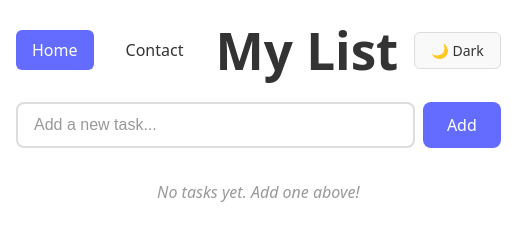
Test: App › adds a new todo
The image size is (519, 227).
Step 1. Type "Buy groceries" into the field with placeholder "Add a new task..." → (215, 125), box [16, 102, 415, 148]
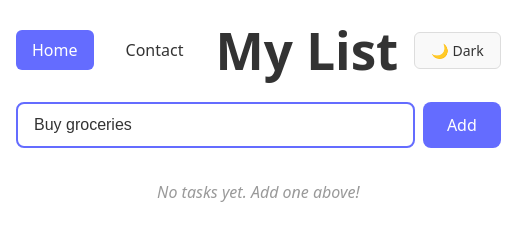
Step 2. Click the button "Add" → (462, 125), box [423, 102, 501, 148]
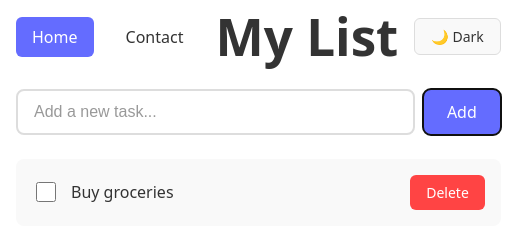
expect the text "Buy groceries" is shown: met, box [71, 181, 174, 203]
expect the text "No tasks yet. Add one above!" is gone: met
